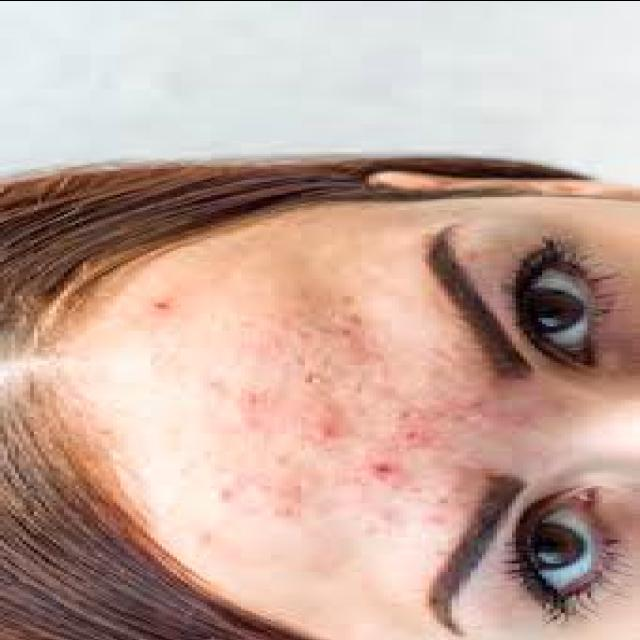Acne: (358, 447, 406, 487), (136, 291, 184, 319), (386, 422, 434, 449), (230, 386, 276, 411), (304, 418, 346, 444)
